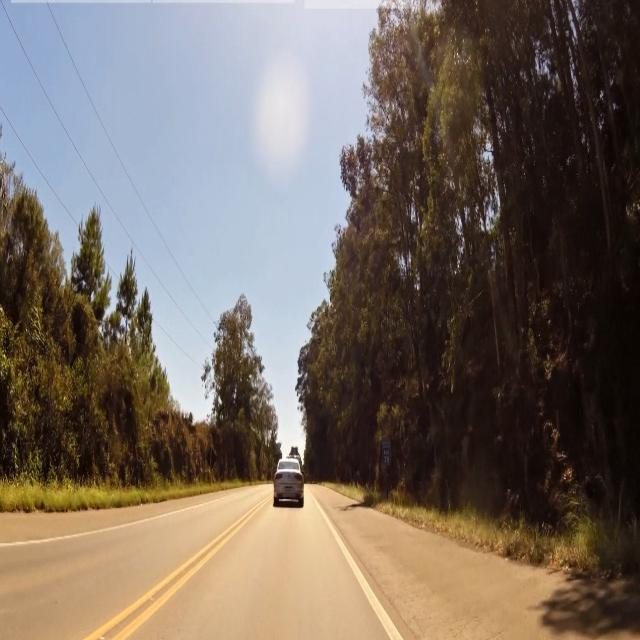RQ: (381, 436, 392, 468)
